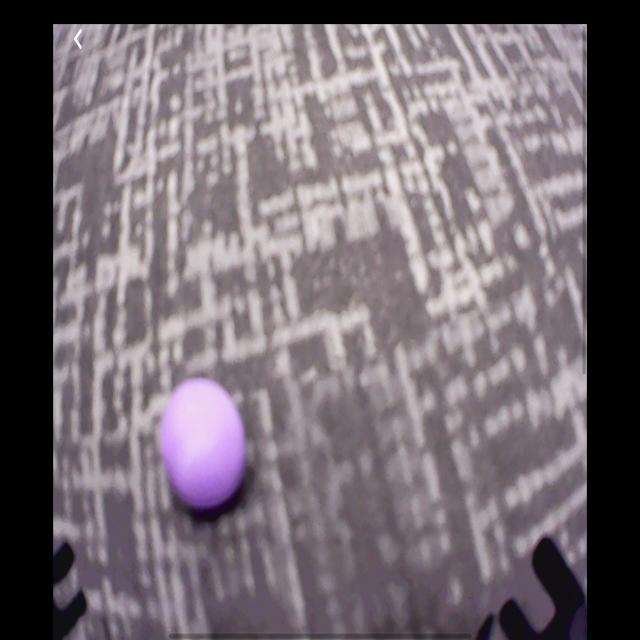ball: (162, 377, 248, 514)
